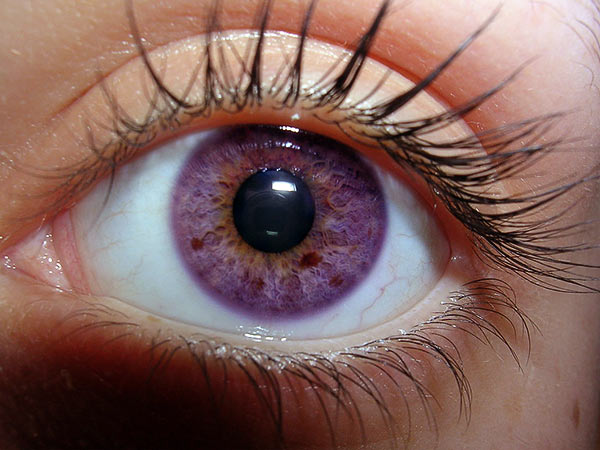iris: (169, 116, 388, 319)
pupil: (231, 167, 315, 252)
